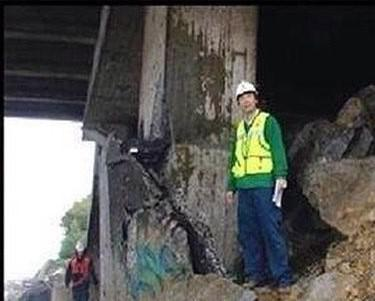crack: (107, 159, 134, 170)
damage: (118, 134, 230, 300)
